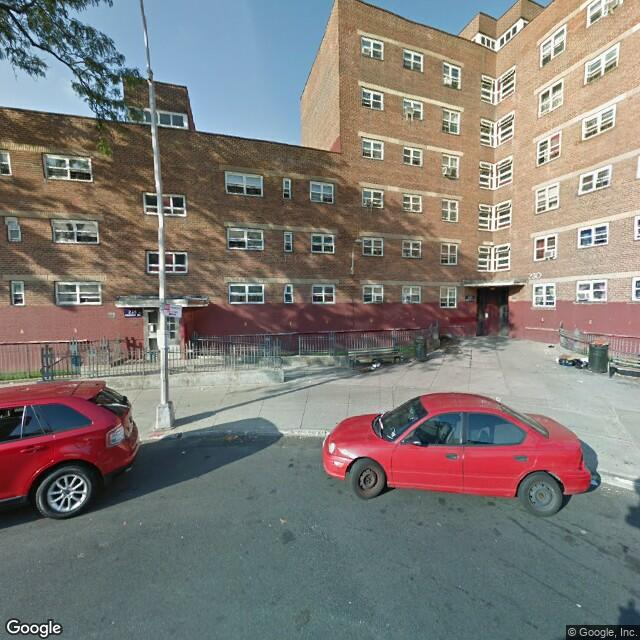litter: (555, 347, 590, 374), (213, 427, 255, 447), (364, 360, 398, 375)
